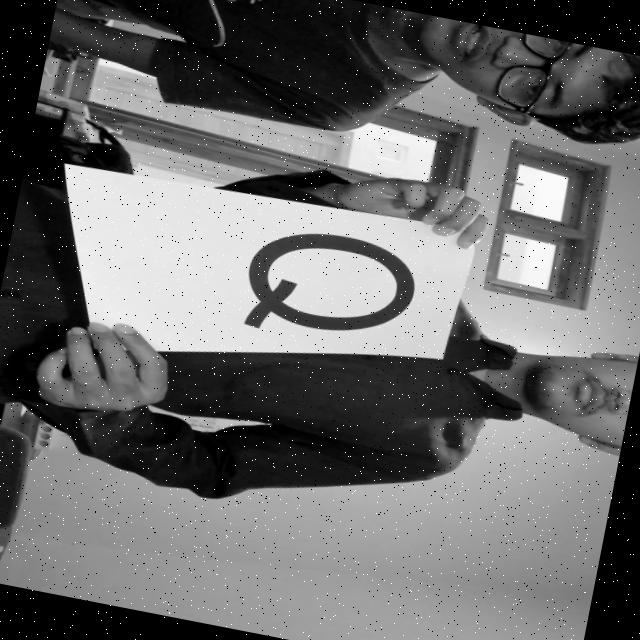q: (200, 198, 442, 372)
